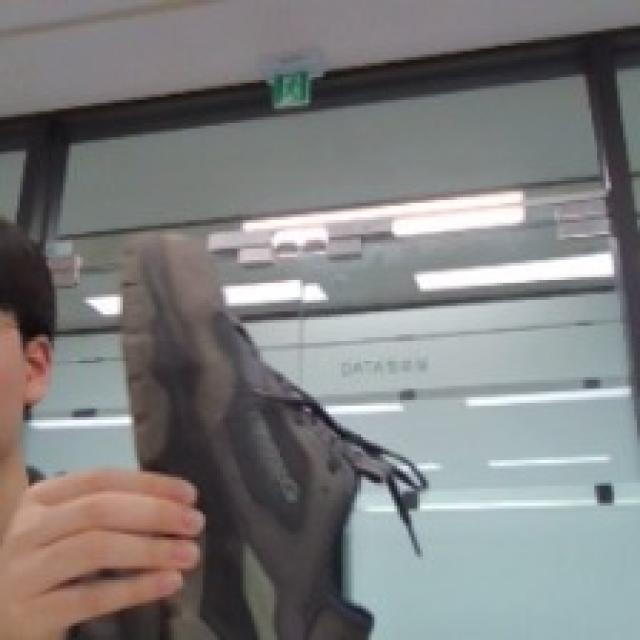shoe: (92, 208, 411, 640)
